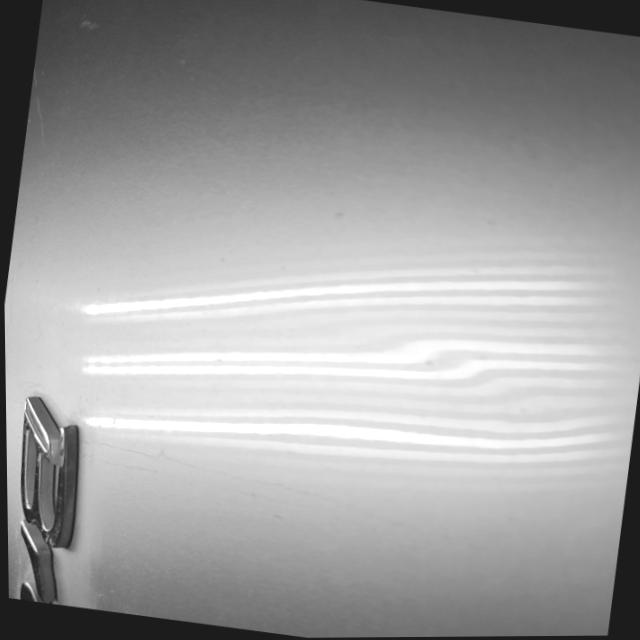PDR-Dent: (384, 319, 524, 405)
